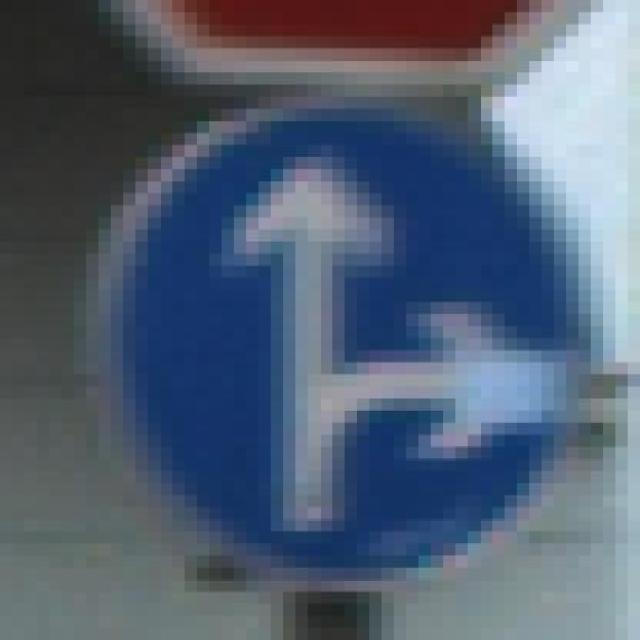Go Straight or Turn Right: (86, 85, 603, 568)
